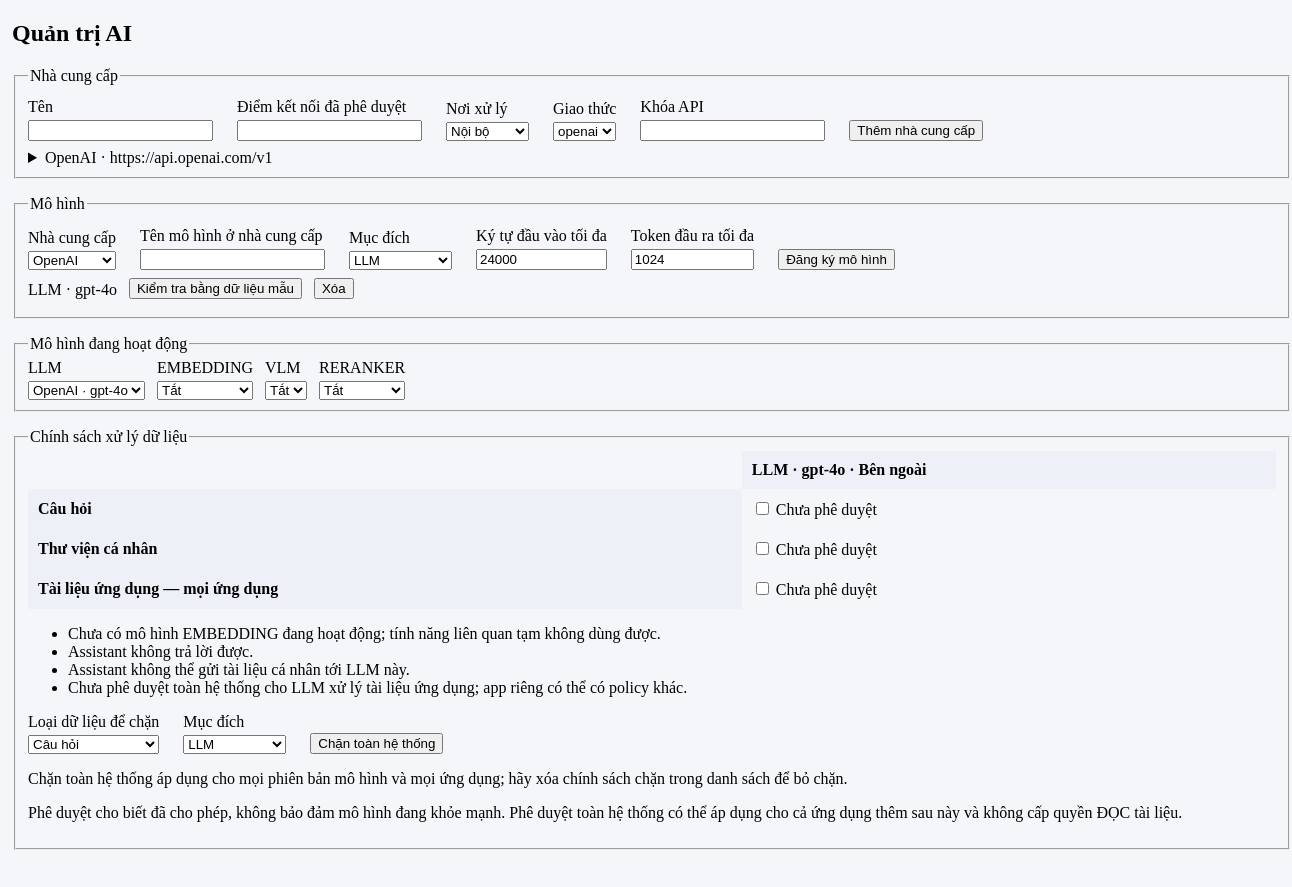
it: keeps the last confirmed state when a mutation fails
Click the checkbox named "Câu hỏi · LLM · gpt-4o": (762, 509) [756,502,769,515]
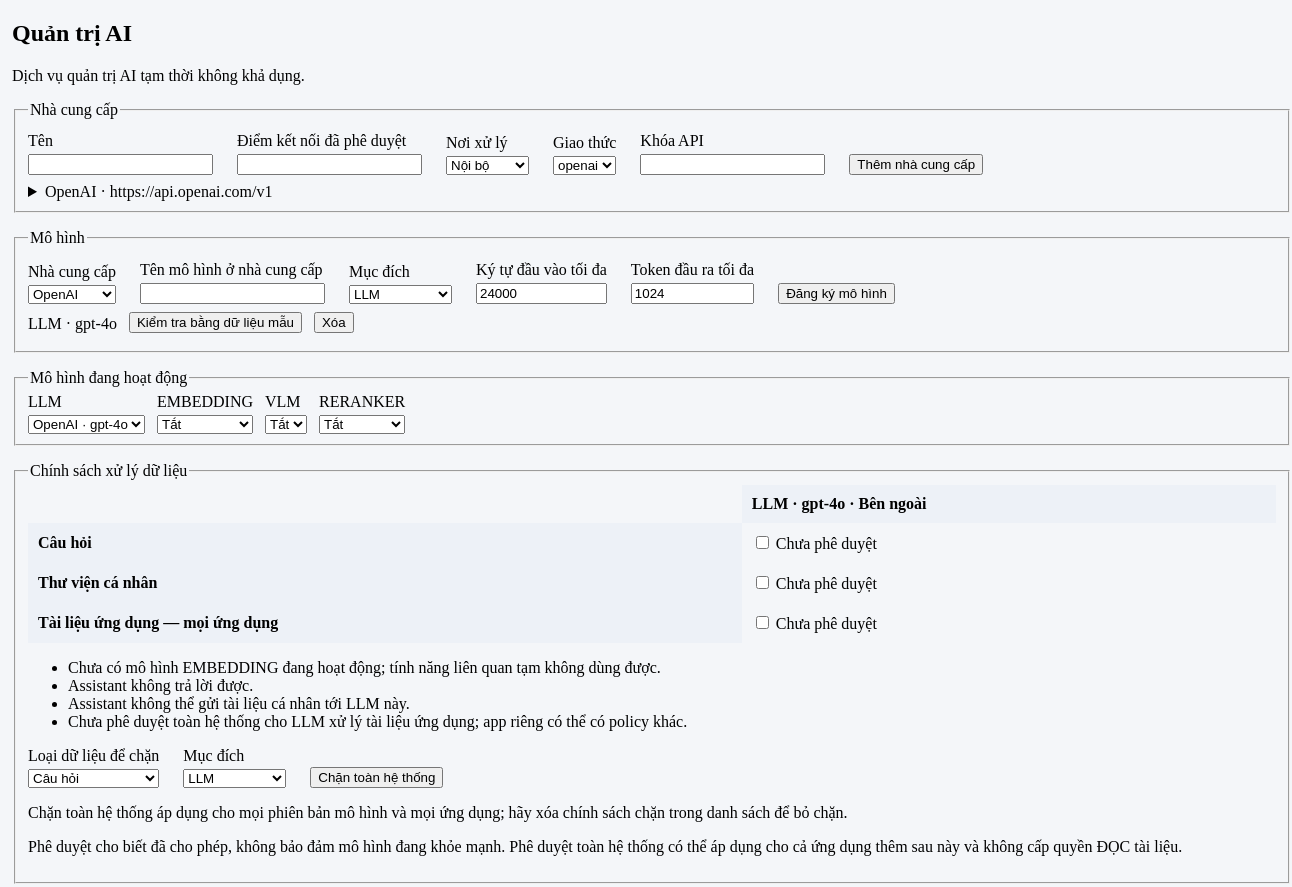
Expected: the checkbox named "Câu hỏi · LLM · gpt-4o" is not checked, [756,536,769,549]
Now the message reads "Dịch vụ quản trị AI tạm thời không khả dụng.", box [12,67,305,84]
